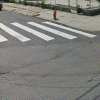crosswalk: (0, 20, 97, 43)
